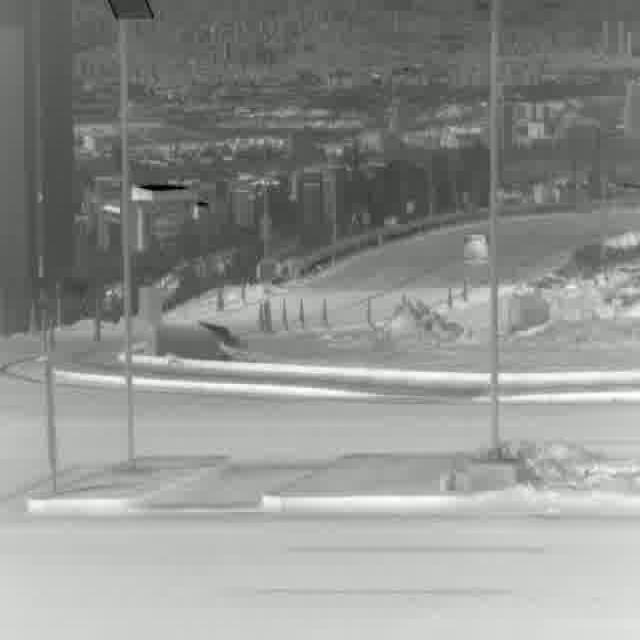Car: (463, 231, 491, 268)
